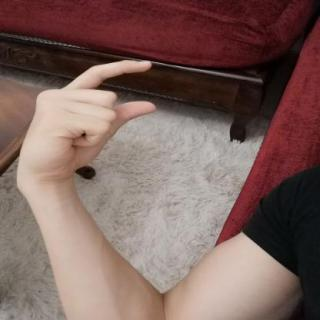DELL: (11, 53, 168, 192)
